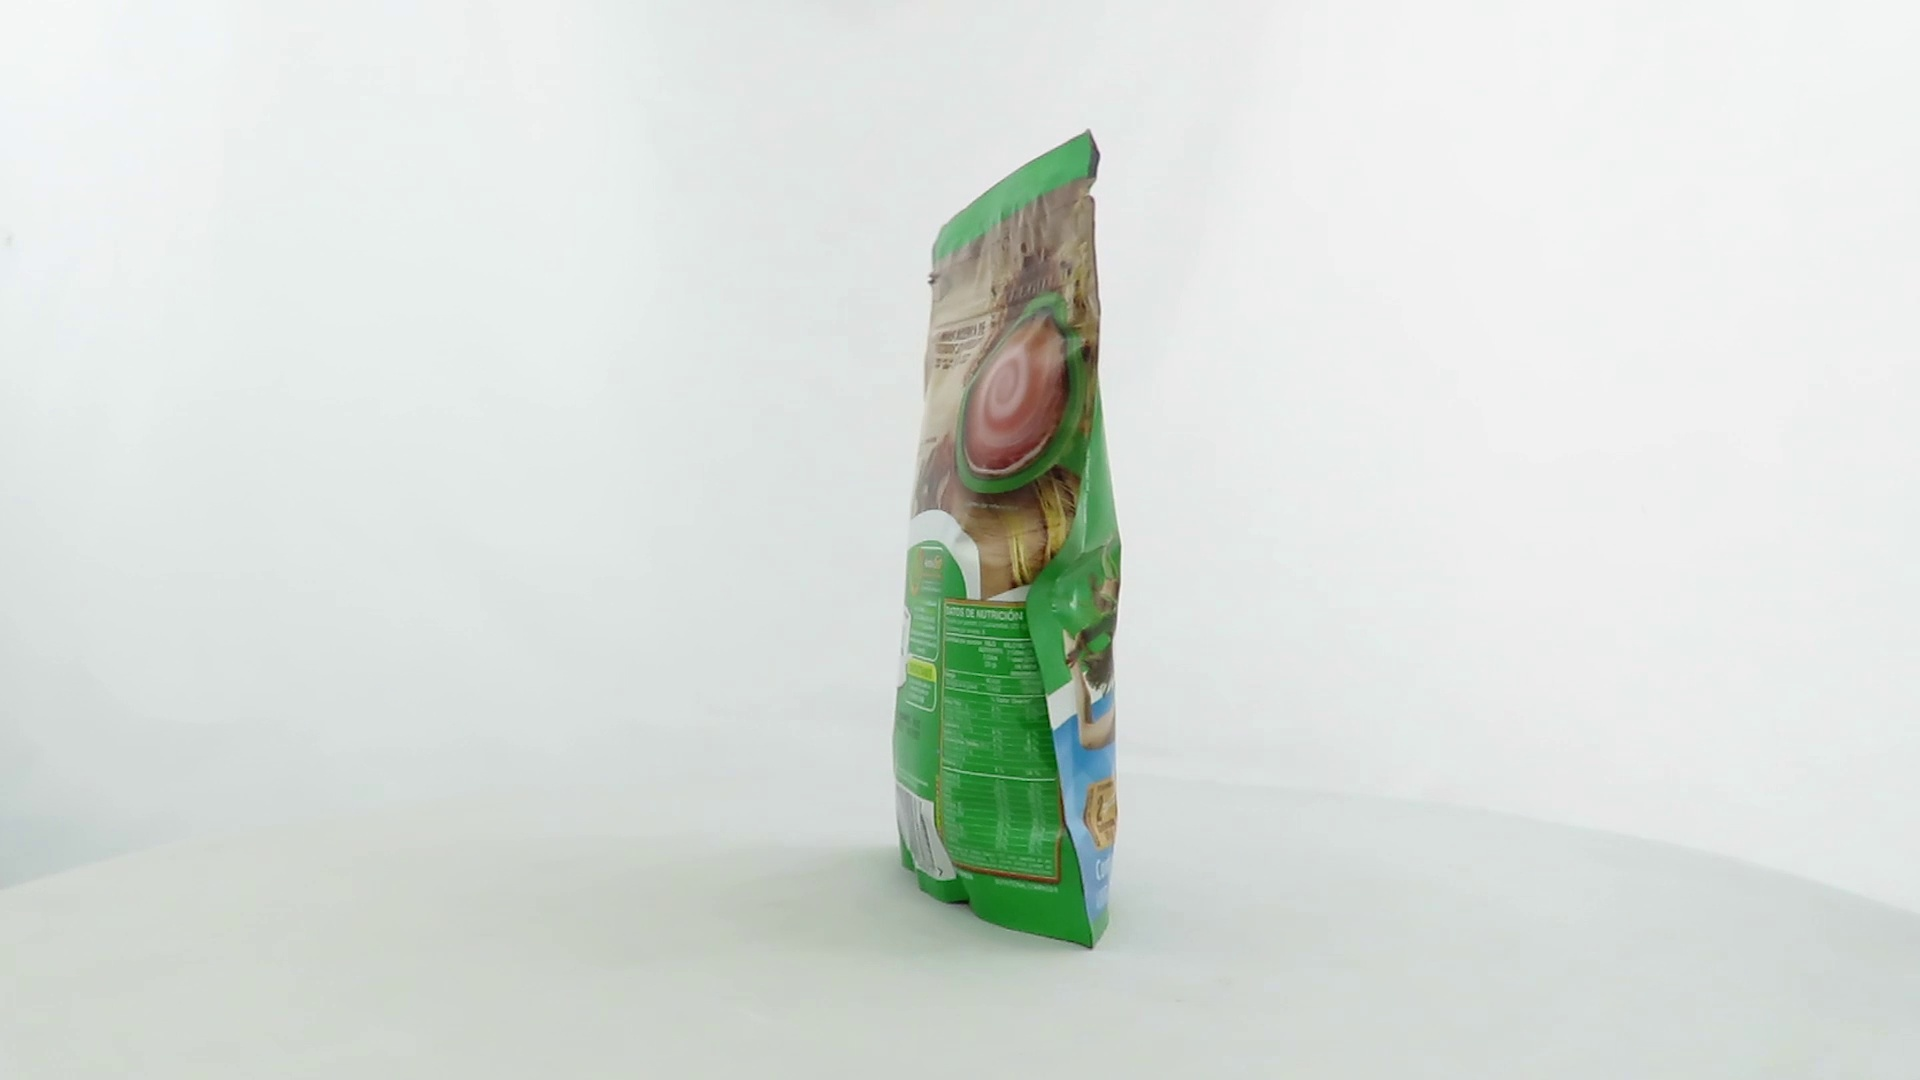COL0170205DYP20000: (887, 123, 1127, 956)
